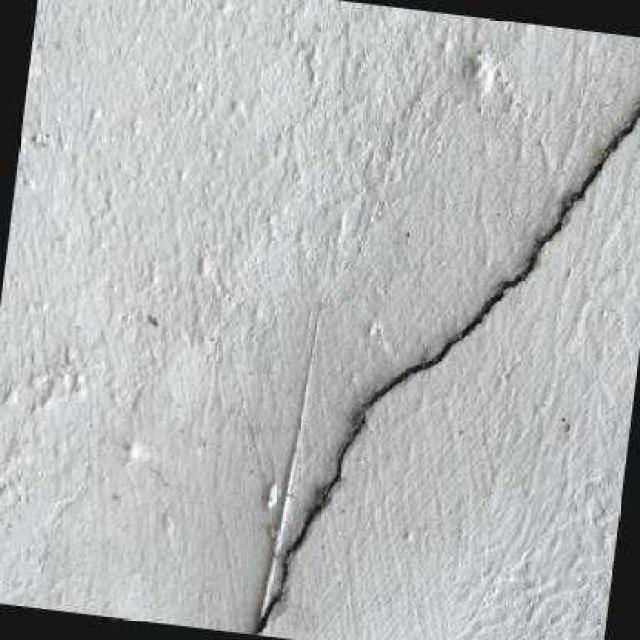D00: (253, 104, 640, 635)
